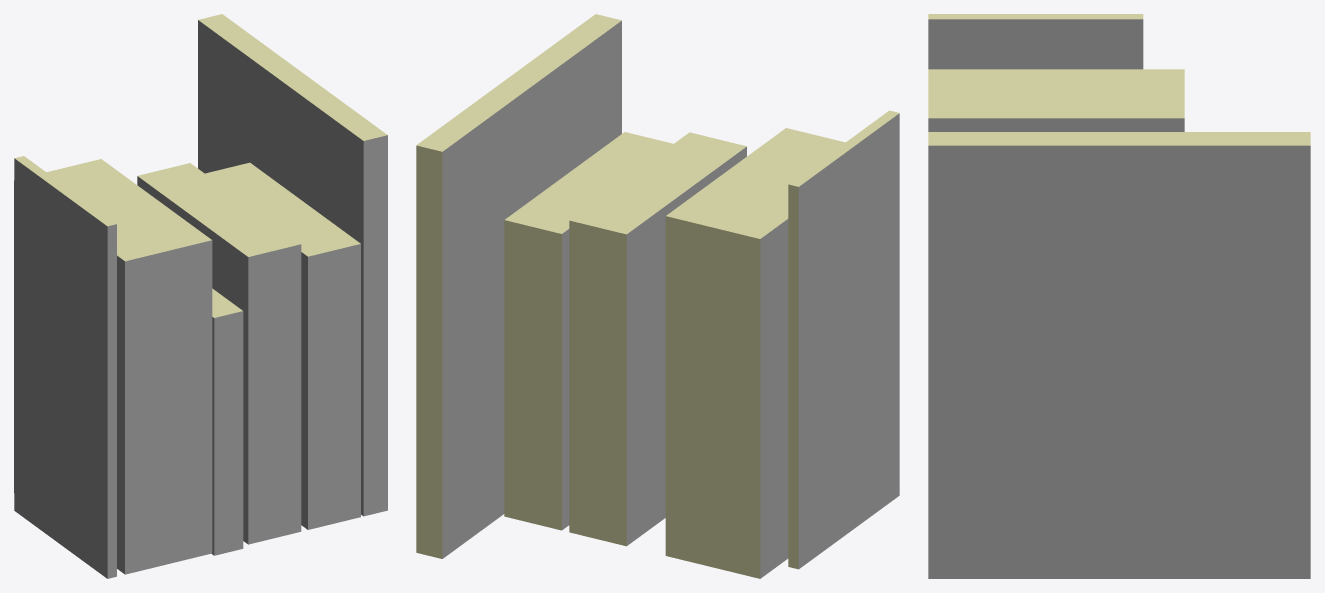
File: Books.fbx
3 renders of one model, left to right at view 1: azimuth 30°, elevation 25°; view 2: azimuth 150°, elevation 25°; view 3: azimuth 270°, elevation 25°, orthographic. The views are drawn at different scales.
Parts seen in each view (by area): view 1: pCube6, pCube5, pCube1, pCube3, pCube2, pCube4; view 2: pCube1, pCube5, pCube6, pCube3, pCube2; view 3: pCube1, pCube5, pCube6.
Boxes of the visible parts, x1=… form: pCube6: x1=14, y1=156, x2=116, y2=578; pCube5: x1=14, y1=159, x2=212, y2=574; pCube1: x1=198, y1=14, x2=387, y2=516; pCube3: x1=137, y1=163, x2=301, y2=544; pCube2: x1=205, y1=162, x2=360, y2=529; pCube4: x1=211, y1=288, x2=243, y2=555; pCube1: x1=416, y1=14, x2=621, y2=558; pCube5: x1=665, y1=128, x2=845, y2=578; pCube6: x1=788, y1=110, x2=899, y2=569; pCube3: x1=569, y1=132, x2=746, y2=546; pCube2: x1=504, y1=132, x2=673, y2=530; pCube1: x1=928, y1=132, x2=1310, y2=578; pCube5: x1=928, y1=69, x2=1184, y2=131; pCube6: x1=928, y1=14, x2=1143, y2=69.
Size of the model in its own units: 0.2625 by 0.3404 by 0.2685.
